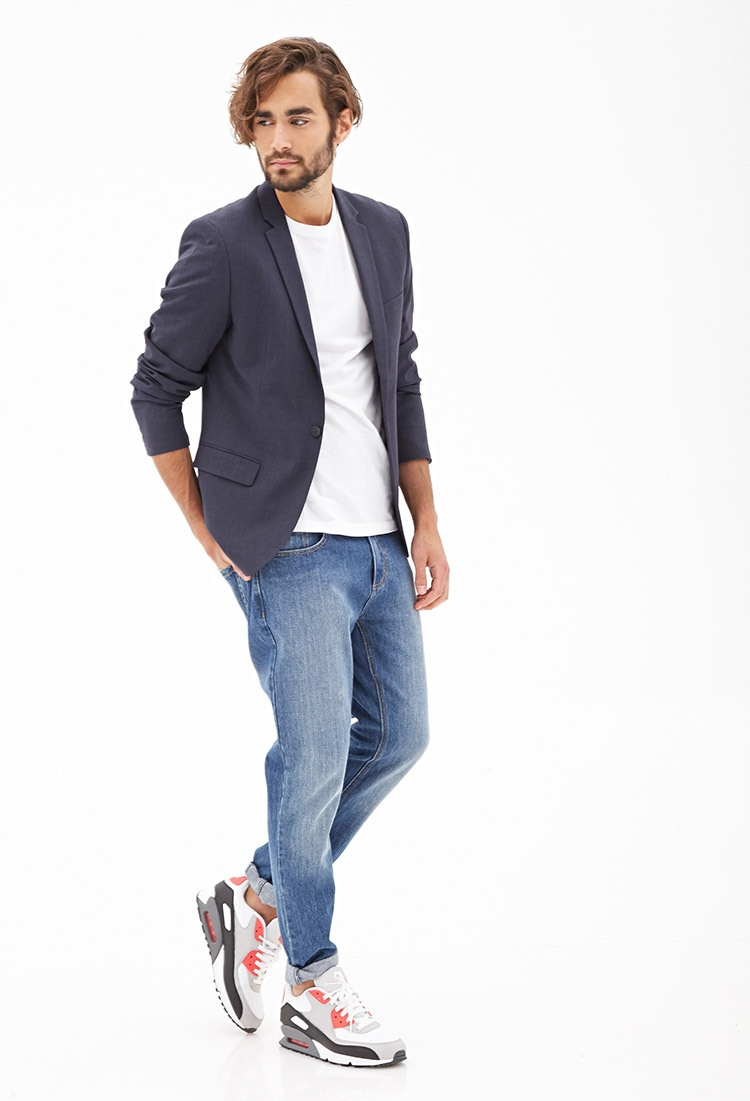C_jeans: (218, 517, 435, 988)
C_sneakers: (193, 854, 417, 1071)
F_M_suit jacket: (124, 171, 439, 582)
